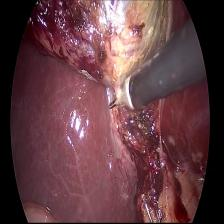Hook: (108, 70, 134, 112)
